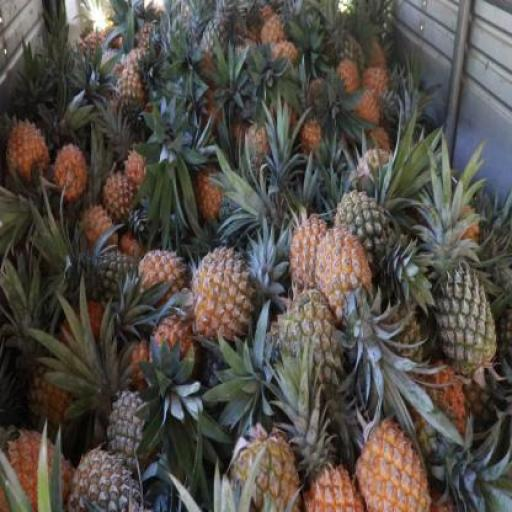------------------------------: (278, 291, 348, 391), (336, 192, 400, 290), (32, 364, 82, 438), (115, 68, 147, 126)
Pineapple - v8 v1: (354, 423, 434, 511), (0, 424, 75, 511), (316, 232, 379, 334), (194, 244, 258, 339), (292, 218, 342, 306), (160, 318, 208, 396), (138, 251, 182, 307), (8, 121, 46, 181), (104, 168, 142, 222), (56, 147, 86, 206)
